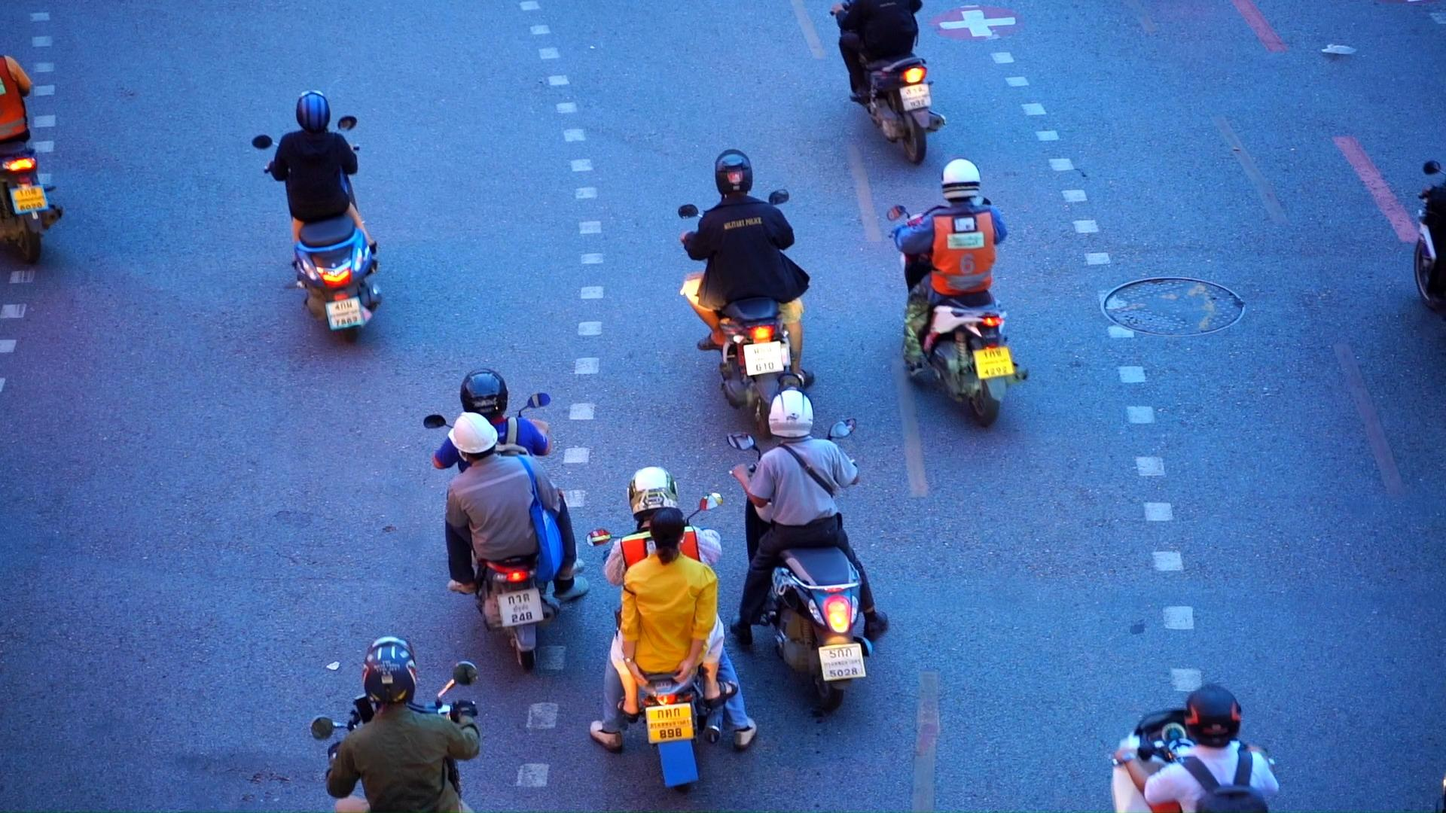driver: (586, 467, 756, 795), (726, 385, 888, 714), (424, 368, 589, 671), (678, 148, 816, 442), (888, 157, 1029, 428), (253, 90, 382, 346), (311, 637, 482, 813), (1111, 683, 1280, 813), (830, 0, 948, 165), (0, 55, 64, 265)
helmet: (361, 637, 418, 710), (1183, 684, 1241, 745), (627, 467, 678, 521), (460, 367, 508, 421), (447, 412, 498, 462), (768, 385, 815, 439), (715, 148, 753, 201), (941, 157, 980, 202), (296, 90, 330, 134)
no-helmet: (649, 507, 686, 566)
